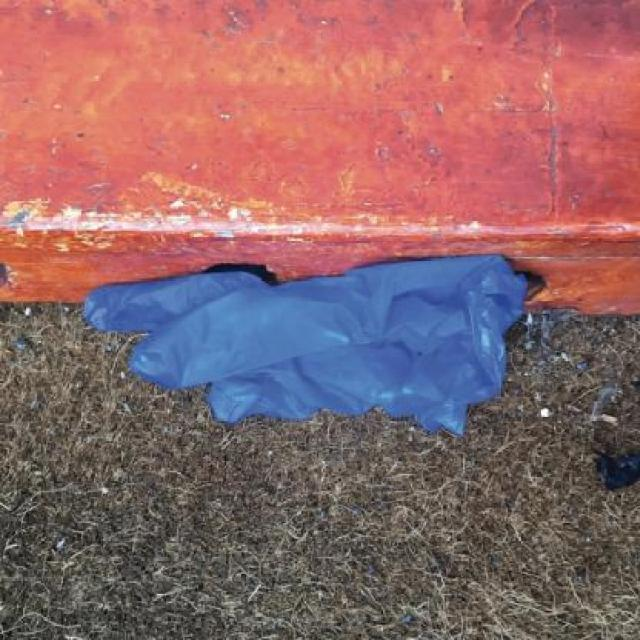glove_hand: (80, 255, 552, 450)
